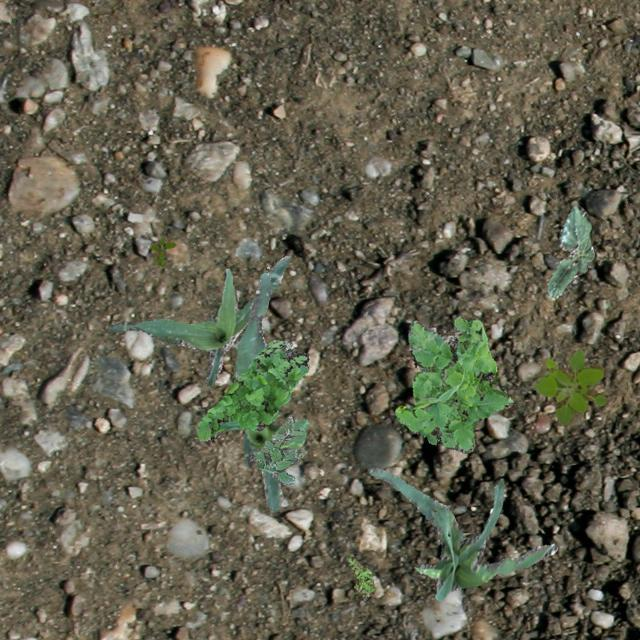crop: (368, 466, 556, 600), (108, 254, 288, 386), (234, 272, 308, 509), (546, 204, 594, 298)
weed: (394, 316, 512, 452), (196, 340, 306, 440), (532, 346, 606, 424), (252, 416, 306, 484), (346, 554, 374, 596), (150, 234, 174, 266), (284, 340, 294, 350), (419, 366, 429, 370)
